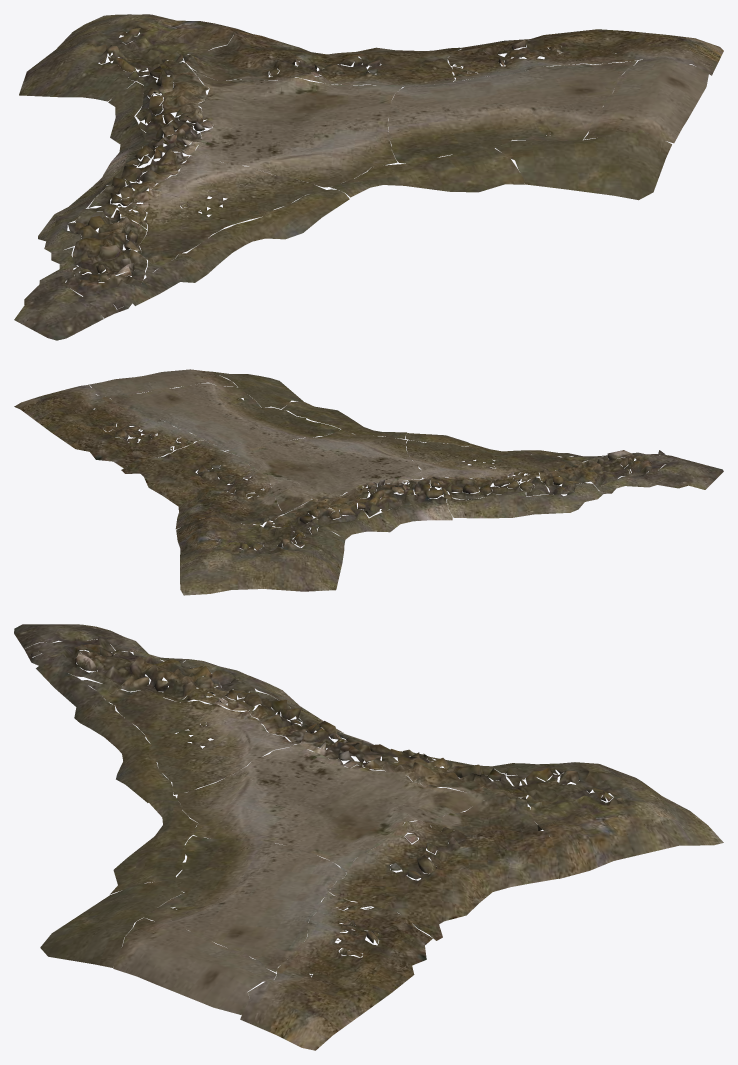
The model's file is coast_rocks_01.glb.
The picture shows the model from 3 angles, top to bottom: view 1: azimuth 30°, elevation 25°; view 2: azimuth 150°, elevation 25°; view 3: azimuth 270°, elevation 25°; orthographic projection. The views are drawn at different scales.
Parts seen in each view (by area): view 1: coast_rocks_01; view 2: coast_rocks_01; view 3: coast_rocks_01.
Boxes of the visible parts, bbox=[...] form: coast_rocks_01: bbox=[14, 14, 723, 340]; coast_rocks_01: bbox=[14, 369, 723, 595]; coast_rocks_01: bbox=[14, 624, 723, 1050].
Bounding box in the file's own units: 59.46 × 3.26 × 42.6.
1 material, 1 textured.
